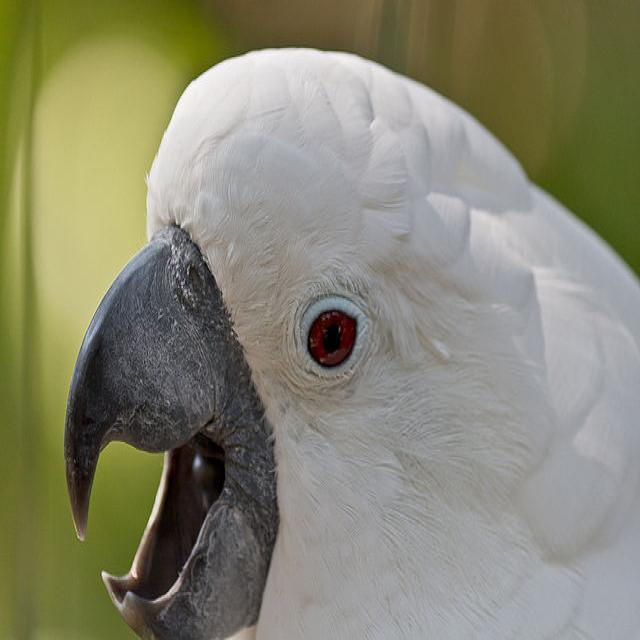Kakatua Putih: (41, 18, 640, 640)
